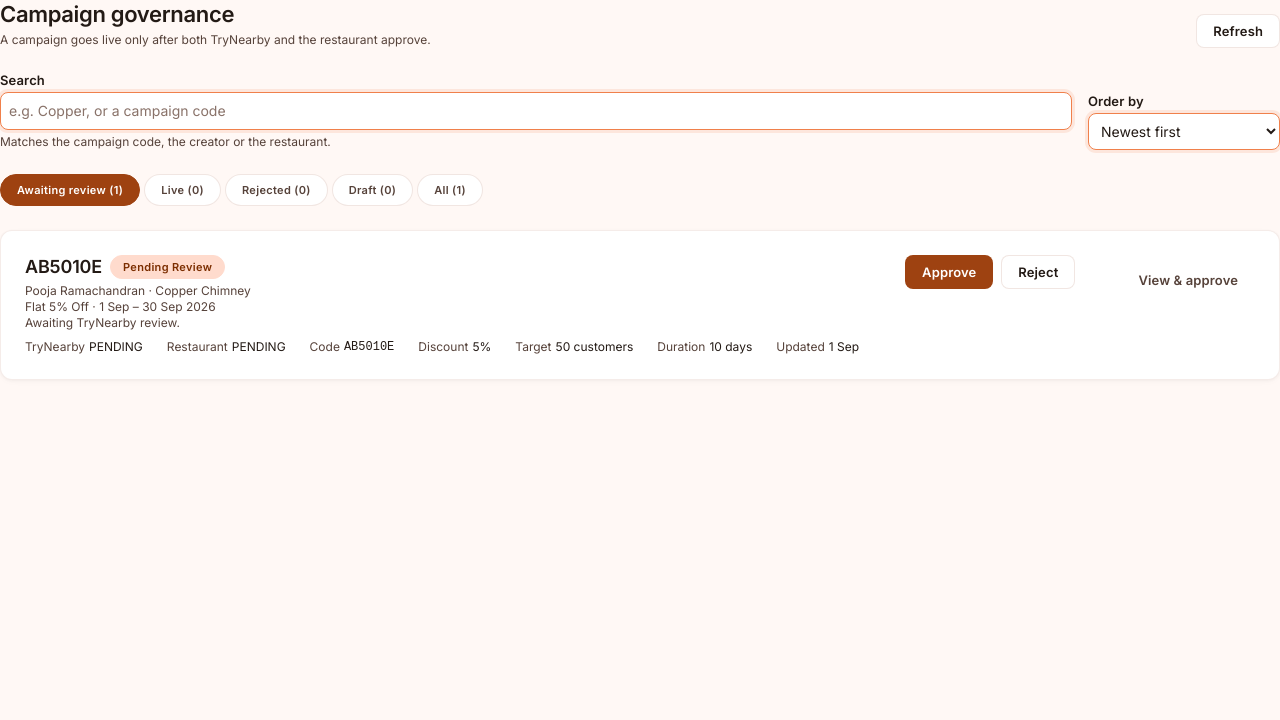
AdminCampaigns › cancelling the confirmation sends nothing
The width and height of the screenshot is (1280, 720).
Step 1. Click the button "Approve" → [949, 272], box [905,255,993,289]
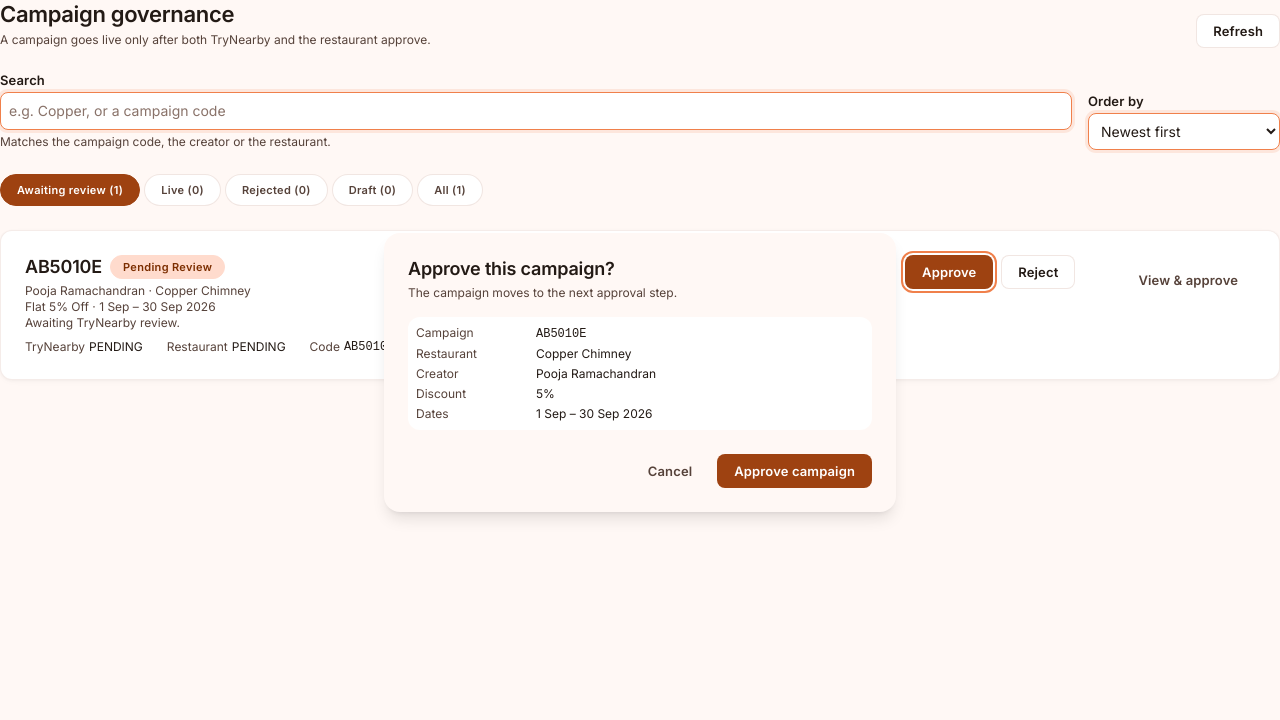
Step 2. Click the button "Cancel" → [670, 470], box [631,454,709,488]
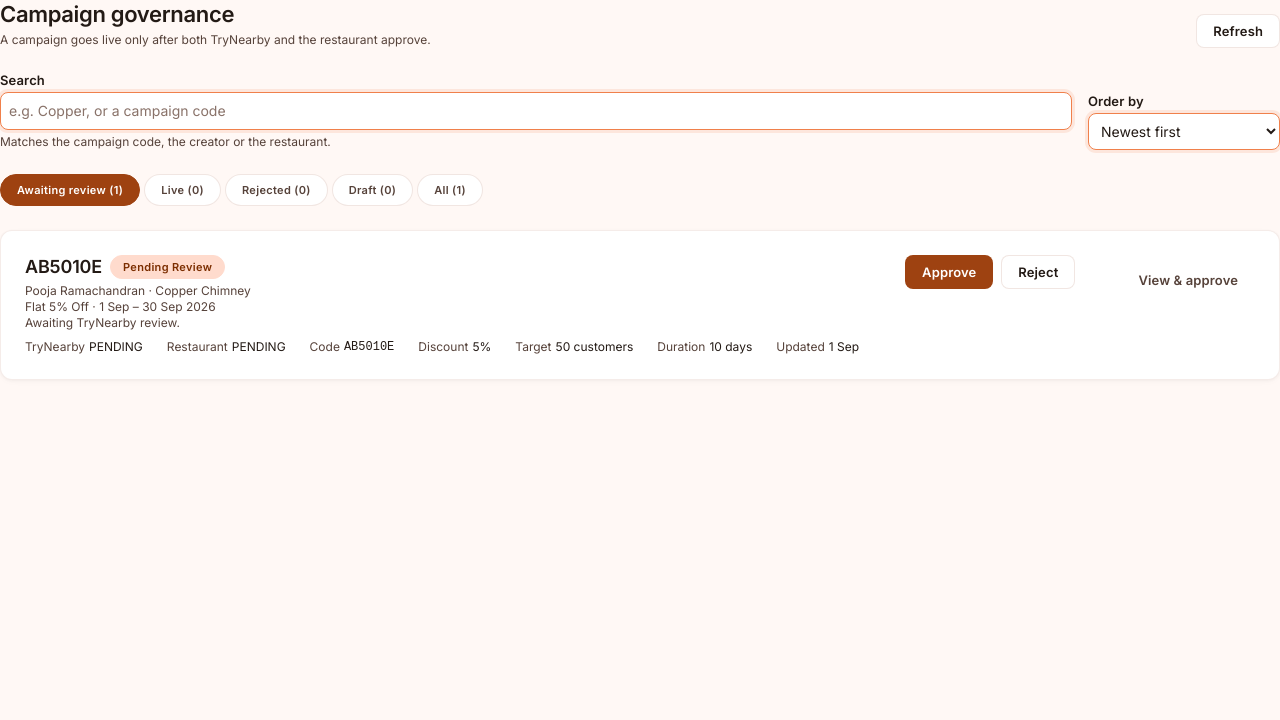
Result: the dialog is gone
